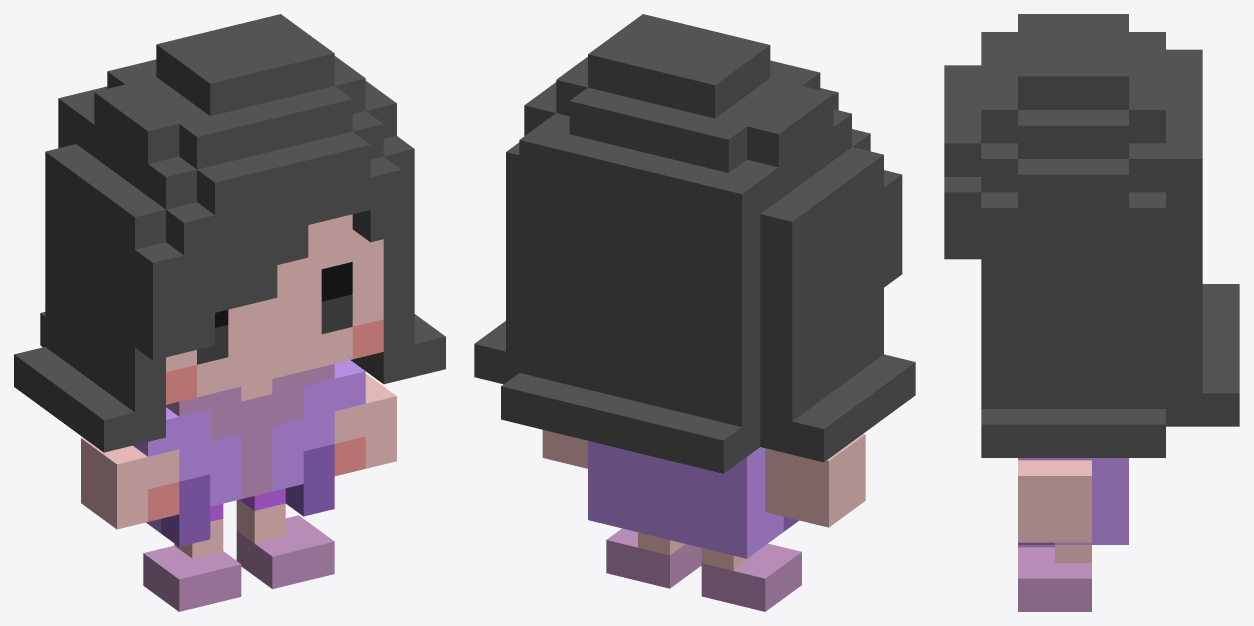
File: character-2.glb
The picture shows the model from 3 angles, left to right: view 1: azimuth 30°, elevation 25°; view 2: azimuth 150°, elevation 25°; view 3: azimuth 270°, elevation 25°; orthographic projection. The views are drawn at different scales.
Parts seen in each view (by area): view 1: Object_30; view 2: Object_30; view 3: Object_30.
Boxes of the visible parts, left/top/right/bottom form: Object_30: left=14, top=14, right=445, bottom=611; Object_30: left=474, top=14, right=915, bottom=611; Object_30: left=944, top=14, right=1239, bottom=611.
Size of the model in its own units: 1.1 by 1.6 by 0.8.
Materials: 1 (1 with a texture image).
